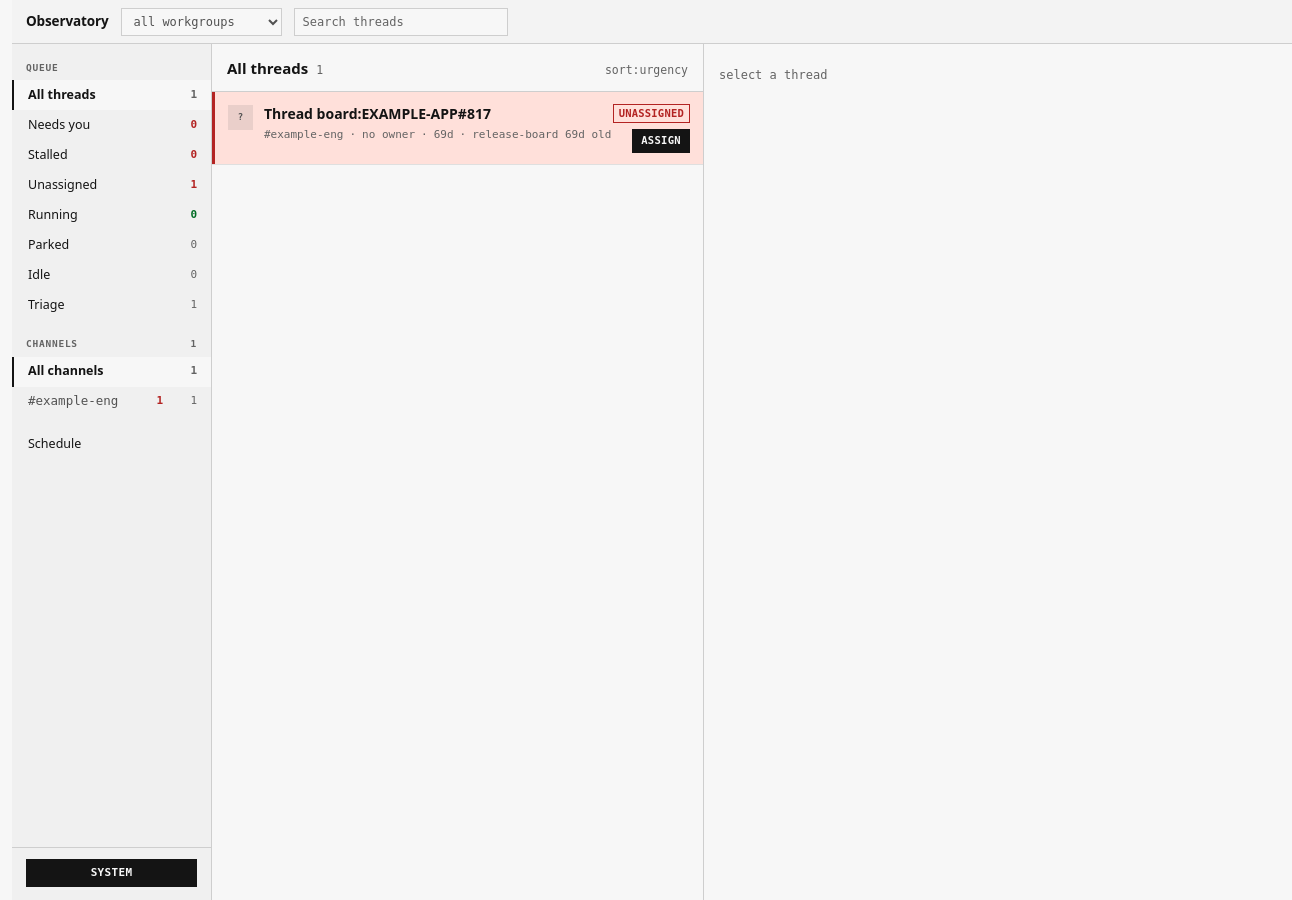
the detail pane withdraws the two non-message actions on an ownerless item › gates on `isOwnerlessItem`, not on the id prefix: a board row that grew a session keeps both
The width and height of the screenshot is (1292, 900).
Click the button with class "ncc-row-main" at [415, 126], box [228,104,602,148]
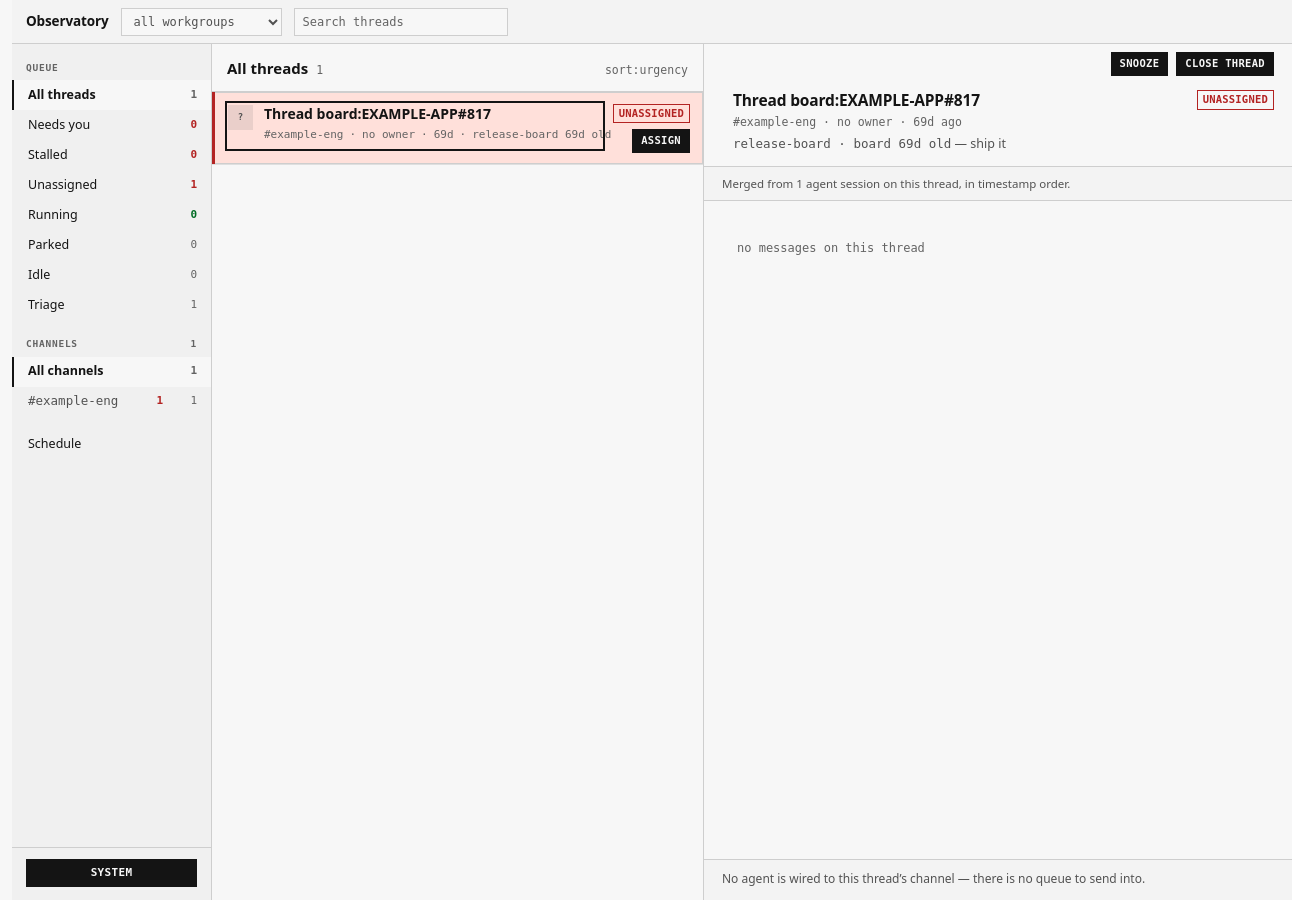
Result: the element with class "ncc-detail-actions" is shown at [1110,52,1274,76]
Result: the button "snooze" is shown at [1110,52,1168,76]
Result: the button "close thread" is shown at [1176,52,1274,76]
